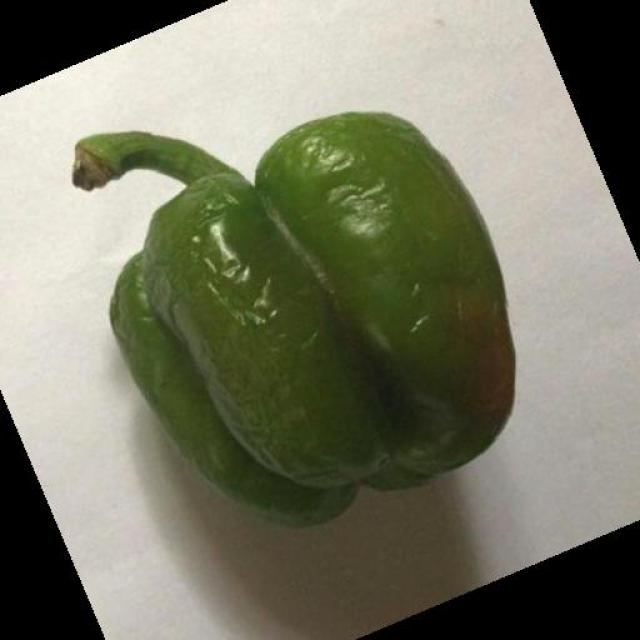Stale_Capsicum: (107, 130, 520, 514)
